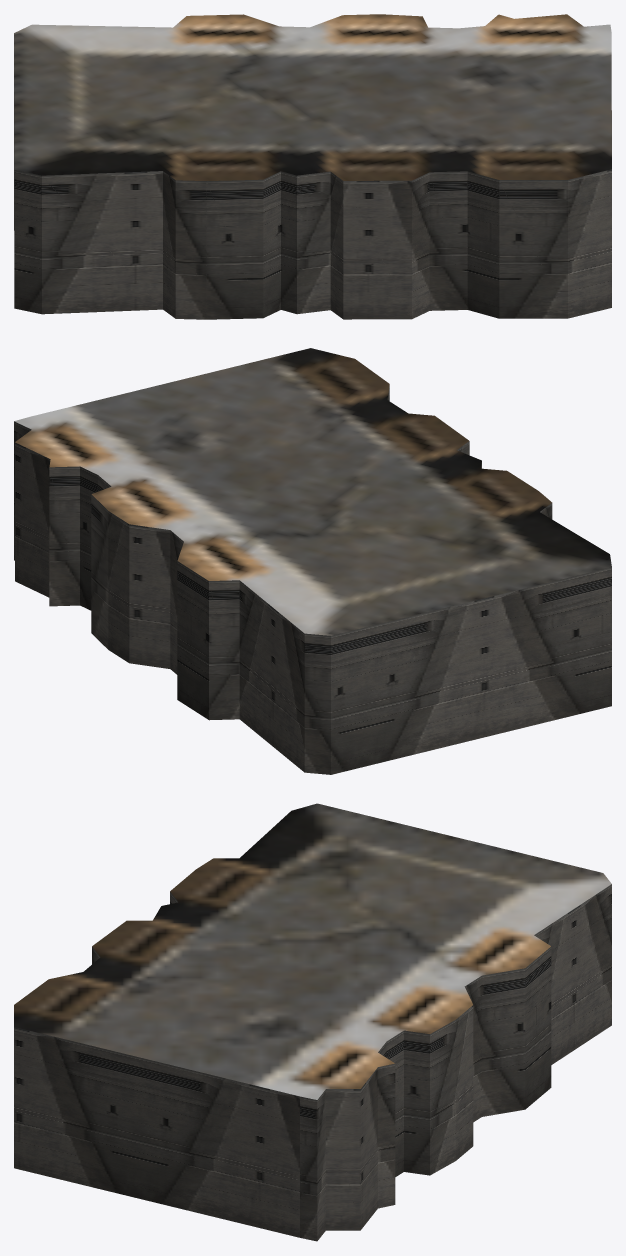
Rendered from fortress_light_a_04.glb.
3 renders of one model, top to bottom at view 1: azimuth 30°, elevation 25°; view 2: azimuth 150°, elevation 25°; view 3: azimuth 270°, elevation 25°, orthographic.
Visible parts, largest first — view 1: buildings/saxarba/fortress_light/fortress_light_a_04; view 2: buildings/saxarba/fortress_light/fortress_light_a_04; view 3: buildings/saxarba/fortress_light/fortress_light_a_04.
Boxes of the visible parts, x1,y1,x2,y2 form: buildings/saxarba/fortress_light/fortress_light_a_04: [14, 14, 611, 319]; buildings/saxarba/fortress_light/fortress_light_a_04: [14, 348, 611, 774]; buildings/saxarba/fortress_light/fortress_light_a_04: [14, 803, 611, 1241].
Bounding box in the file's own units: 81 × 18 × 69.
